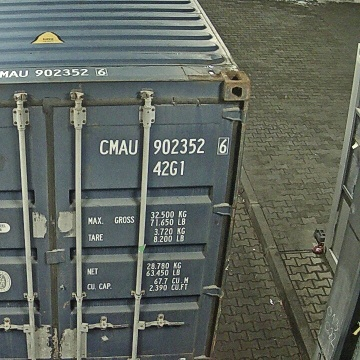serial_id: (100, 138, 227, 154)
